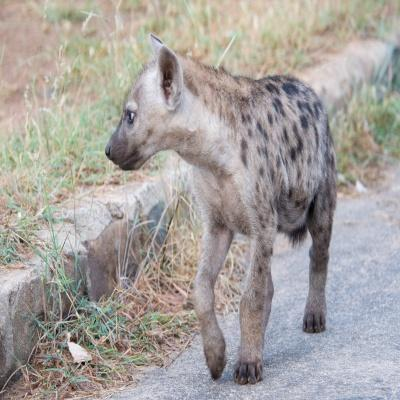hyenas: (104, 30, 385, 400)
